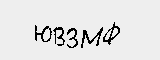В: (51, 25, 66, 51)
З: (65, 26, 81, 49)
М: (78, 26, 103, 48)
Ф: (102, 22, 121, 45)
Ю: (32, 24, 52, 46)
